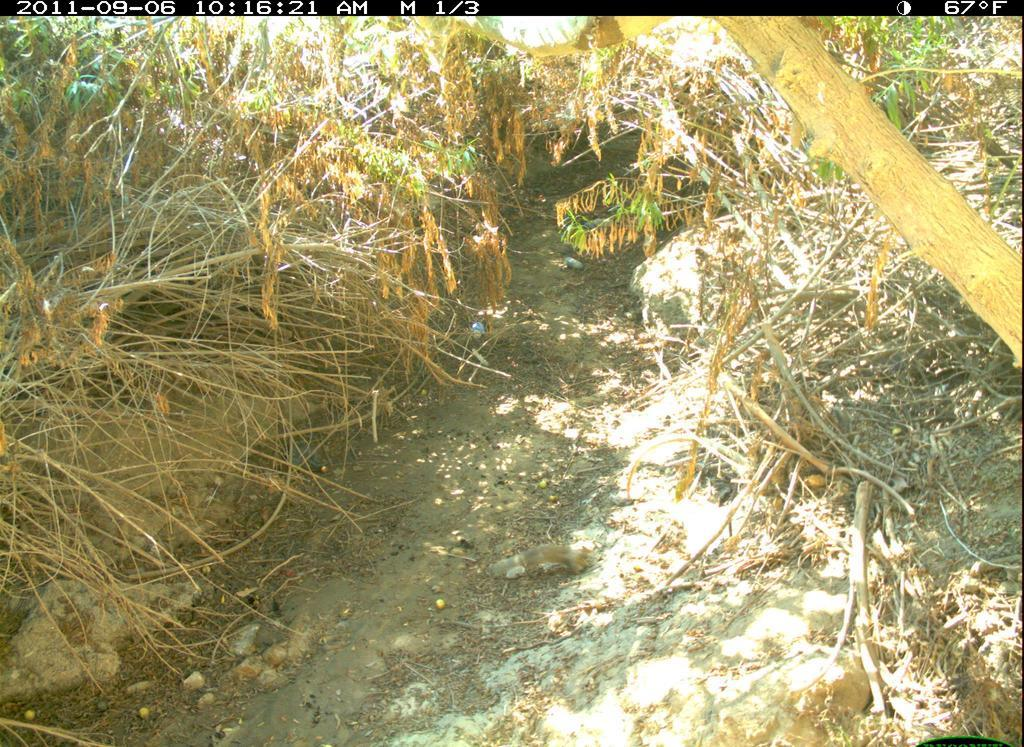squirrel: (483, 537, 601, 582)
